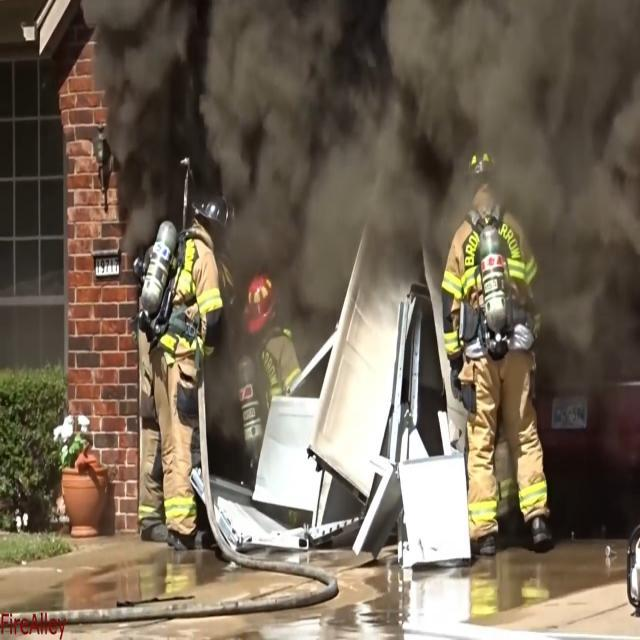Smoke: (209, 8, 628, 235)
